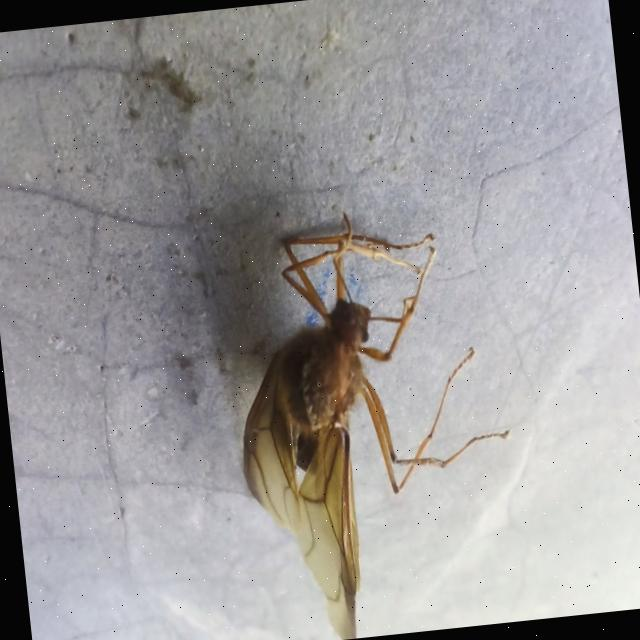Dead-Male-Alate: (217, 197, 532, 640)
